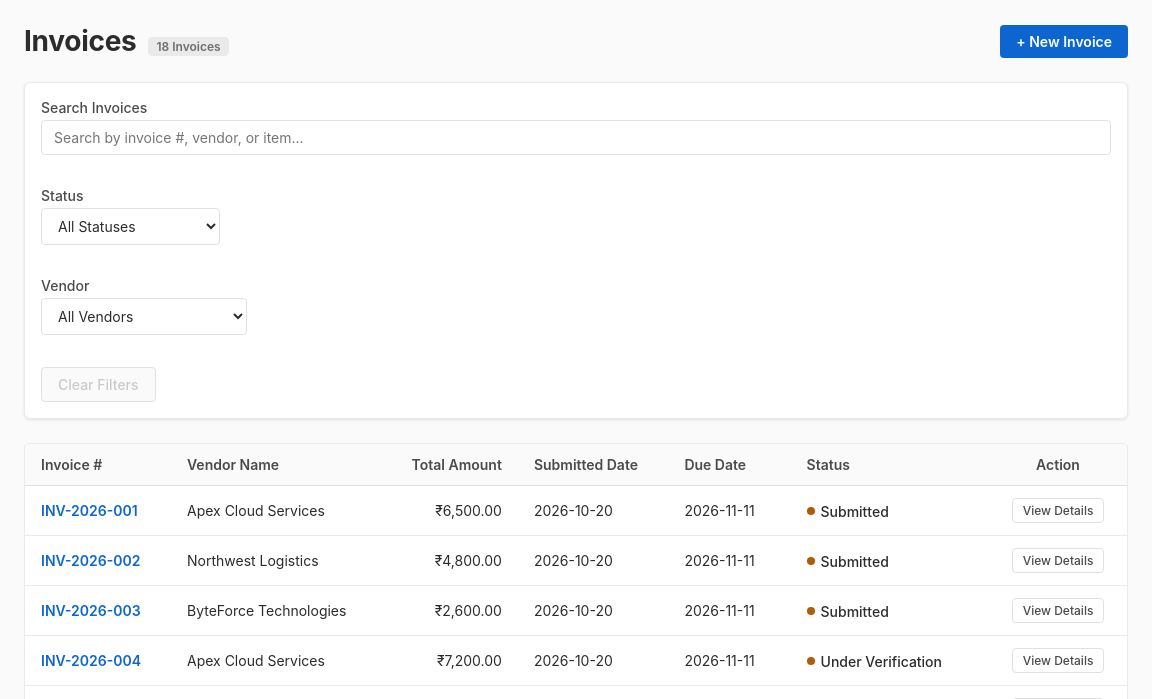
InvoicesPage › Filtering Toolbar › resets all filters when Clear Filters button is clicked
The image size is (1152, 699).
Expected: the text "INV-2026-001" is shown, [41, 502, 138, 519]
Select "Flagged" in the dropdown with test id "invoice-status-filter" at (130, 226), box [41, 208, 220, 245]
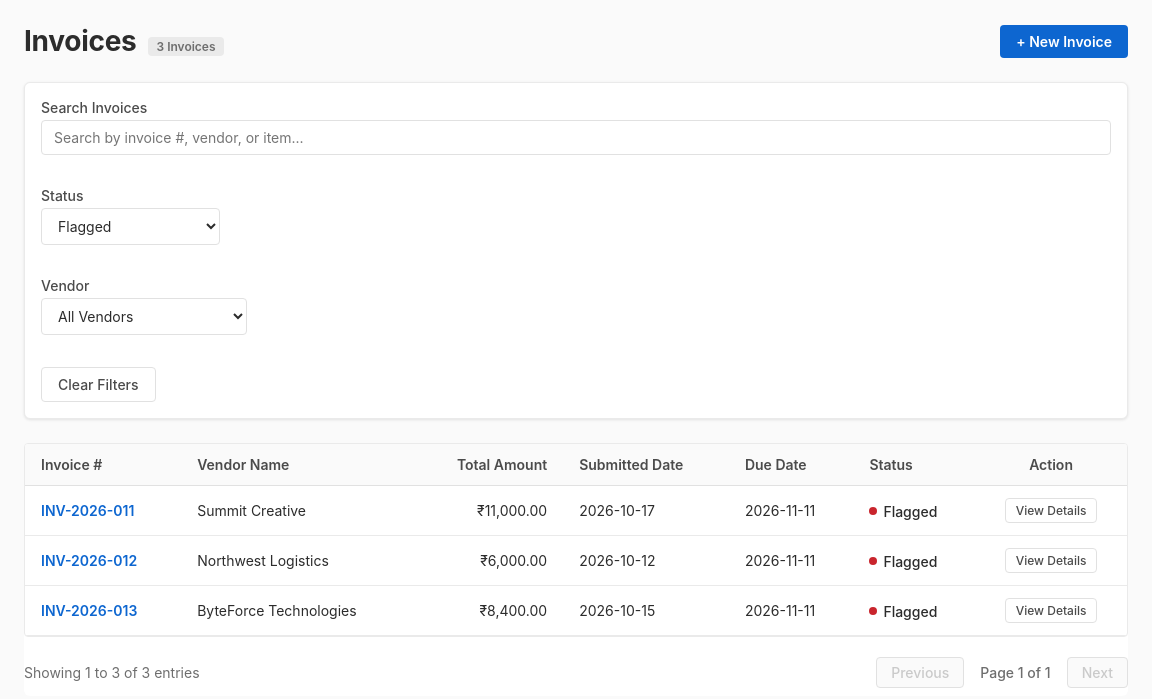
Expected: the text "INV-2026-001" is gone
Click the button with test id "clear-filters-button".
click(98, 384)  # box [41, 367, 156, 402]
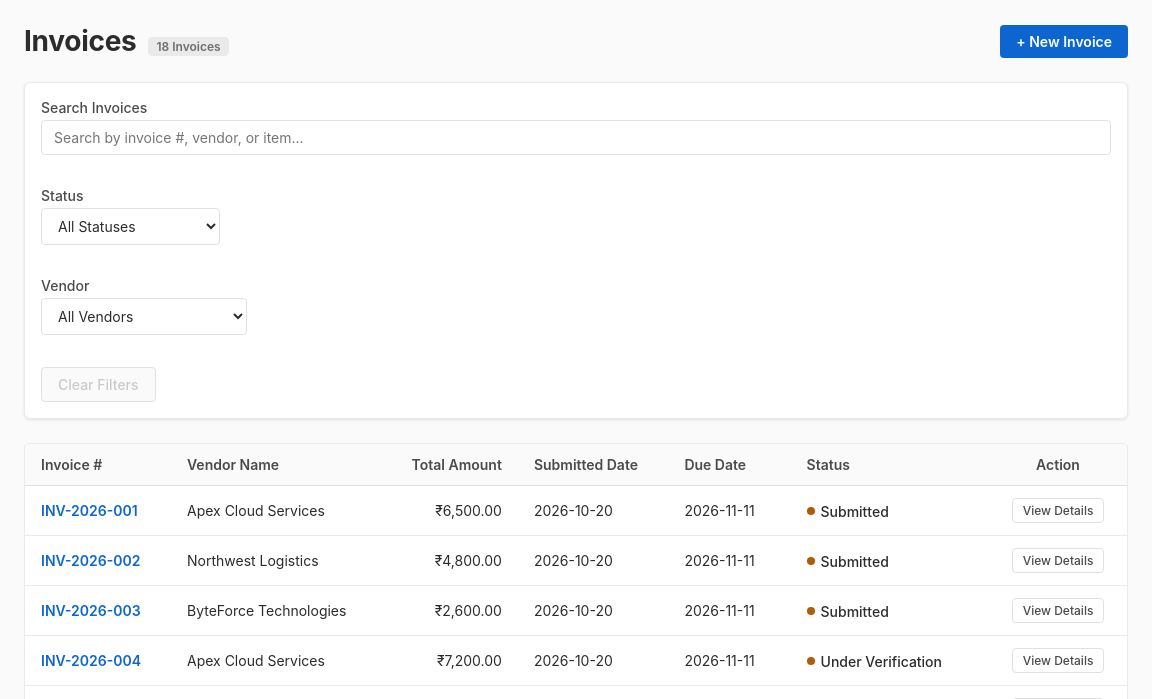
Expected: the text "INV-2026-001" is shown, [41, 502, 138, 519]
